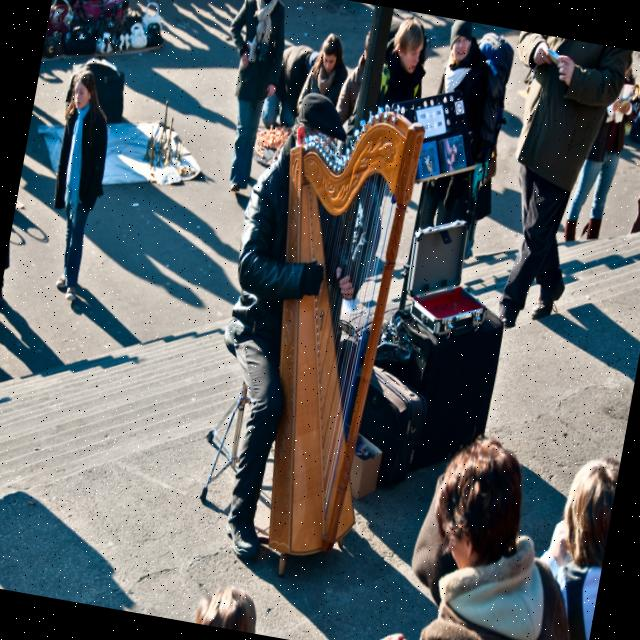harp: (217, 97, 428, 568)
